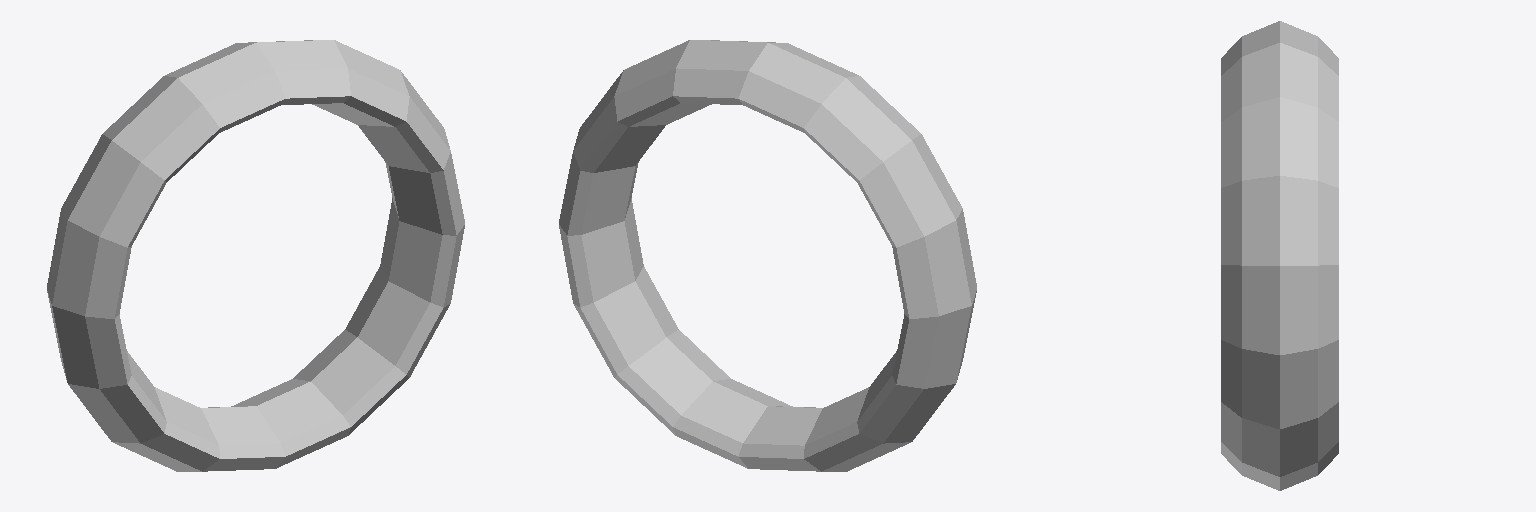
The model's file is ring.obj.
3 renders of one model, left to right at view 1: azimuth 30°, elevation 25°; view 2: azimuth 150°, elevation 25°; view 3: azimuth 270°, elevation 25°, orthographic.
Visible parts, largest first — view 1: SuperToroid; view 2: SuperToroid; view 3: SuperToroid.
Boxes of the visible parts, box(x1,y1,x2,y2) form: SuperToroid: box(47, 40, 464, 471); SuperToroid: box(559, 40, 976, 471); SuperToroid: box(1221, 21, 1338, 490).
Size of the model in its own units: 2.23 by 2.23 by 0.5605.